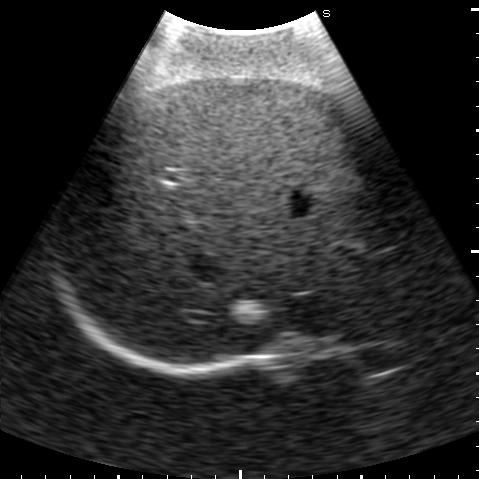S5: (129, 75, 360, 190)
S7: (58, 148, 188, 292)
S8: (120, 170, 390, 364)
Tumor: (227, 299, 267, 323)
